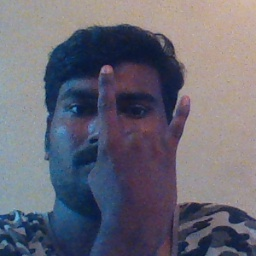V: (83, 61, 198, 238)
